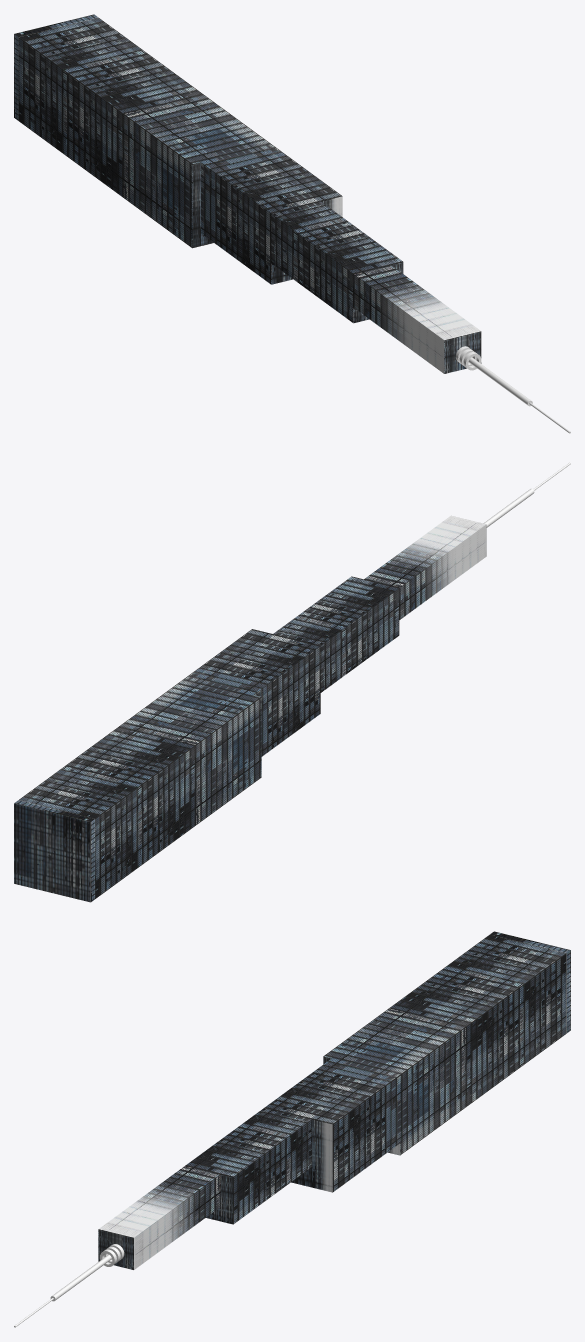
The model's file is 2101Real.obj.
The picture shows the model from 3 angles, top to bottom: view 1: azimuth 30°, elevation 25°; view 2: azimuth 150°, elevation 25°; view 3: azimuth 330°, elevation 25°; orthographic projection. The views are drawn at different scales.
Parts seen in each view (by area): view 1: object_3, object_1, object_4, object_2, object_10; view 2: object_3, object_1, object_4, object_10, object_2; view 3: object_3, object_1, object_4, object_2, object_10.
Part boxes in pixels (x1,y1,x2,y2): object_3: [18, 17, 271, 248]; object_1: [201, 145, 342, 284]; object_4: [271, 201, 403, 323]; object_2: [353, 265, 481, 373]; object_10: [14, 14, 98, 120]; object_3: [19, 678, 261, 898]; object_1: [185, 629, 320, 756]; object_4: [273, 576, 399, 692]; object_10: [14, 800, 95, 902]; object_2: [364, 515, 486, 619]; object_3: [323, 934, 566, 1155]; object_1: [264, 1058, 399, 1192]; object_4: [186, 1108, 311, 1224]; object_2: [98, 1165, 220, 1269]; object_10: [490, 931, 570, 1033].
Size of the model in its own units: 3.19 by 3.19 by 36.46.
